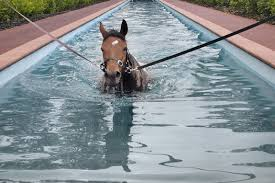Horse: (68, 19, 172, 124)
